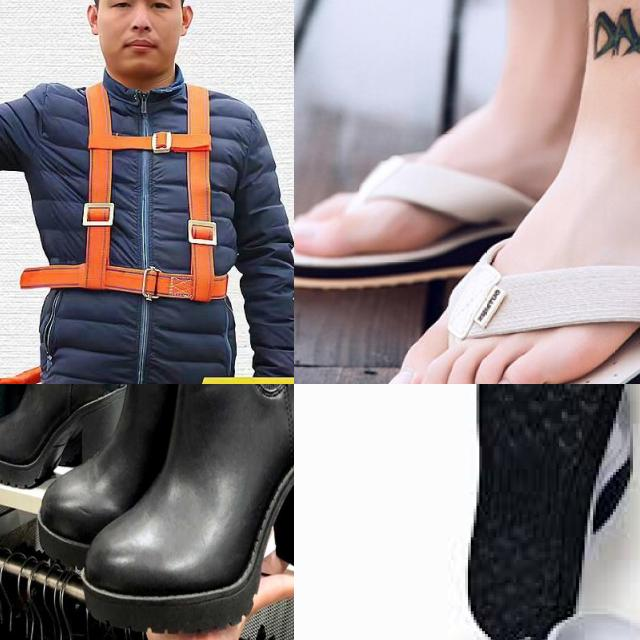Harness: (63, 82, 226, 374)
Sandals: (331, 384, 640, 640), (25, 384, 294, 638), (350, 169, 640, 384)
